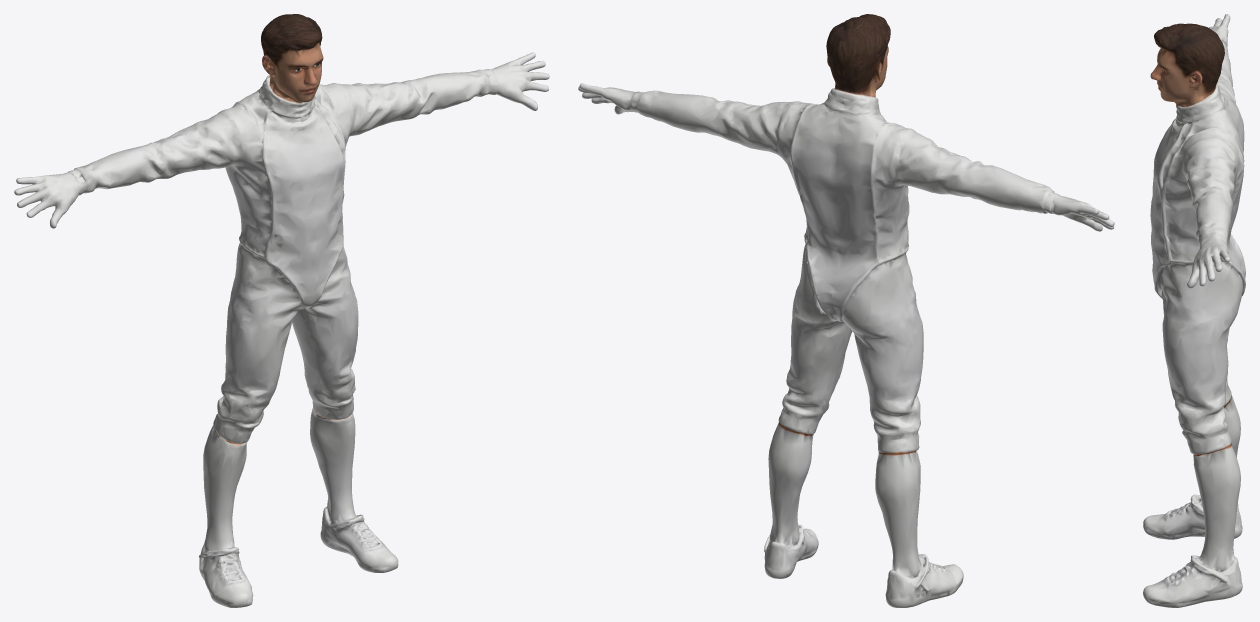
File: fencer.glb
3 views of the same model, side by side, from view 1: azimuth 30°, elevation 25°; view 2: azimuth 150°, elevation 25°; view 3: azimuth 270°, elevation 25° (orthographic). The views are drawn at different scales.
Visible parts, largest first — view 1: tripo_node_308a59cd-56b4-427d-9bd8-0e802907fbee; view 2: tripo_node_308a59cd-56b4-427d-9bd8-0e802907fbee; view 3: tripo_node_308a59cd-56b4-427d-9bd8-0e802907fbee.
Part boxes in pixels (x1,y1,x2,y2): tripo_node_308a59cd-56b4-427d-9bd8-0e802907fbee: (14, 14, 549, 607); tripo_node_308a59cd-56b4-427d-9bd8-0e802907fbee: (578, 14, 1114, 607); tripo_node_308a59cd-56b4-427d-9bd8-0e802907fbee: (1143, 14, 1245, 607).
Bounding box in the file's own units: 1.77 × 1.78 × 0.3054.
1 material, 1 textured.
